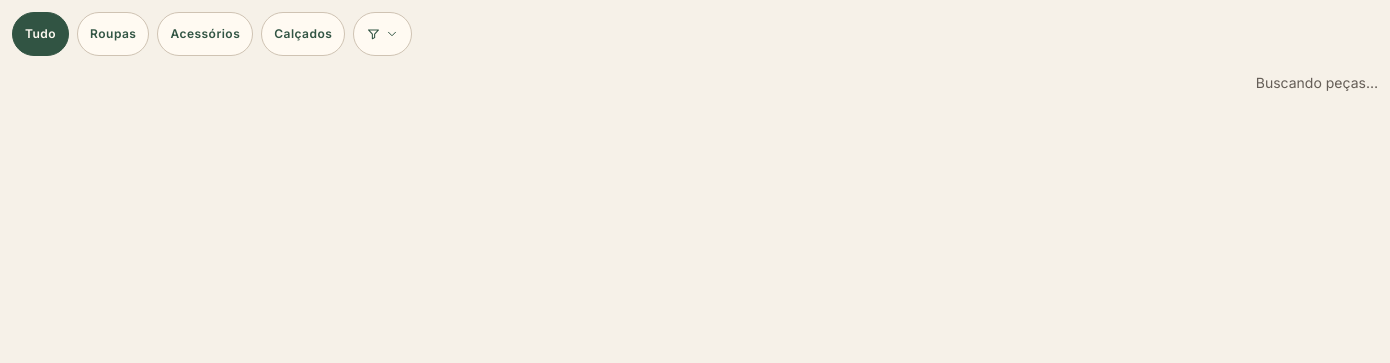
Test: FilterPanel › fecha o painel ao clicar fora dele (no fundo escurecido)
The image size is (1390, 363).
Click the button named "mais filtros" at {"x": 383, "y": 34}, box [353,12,412,56]
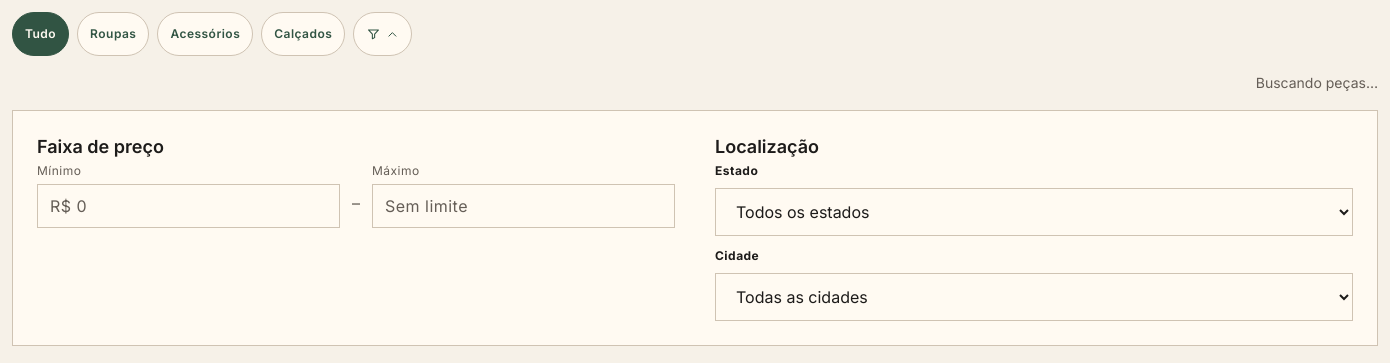
Expected: the text "Faixa de preço" is shown, [37,135,164,159]
Click the element with test id "drawer-backdrop" at {"x": 695, "y": 228}, box [12,110,1378,346]
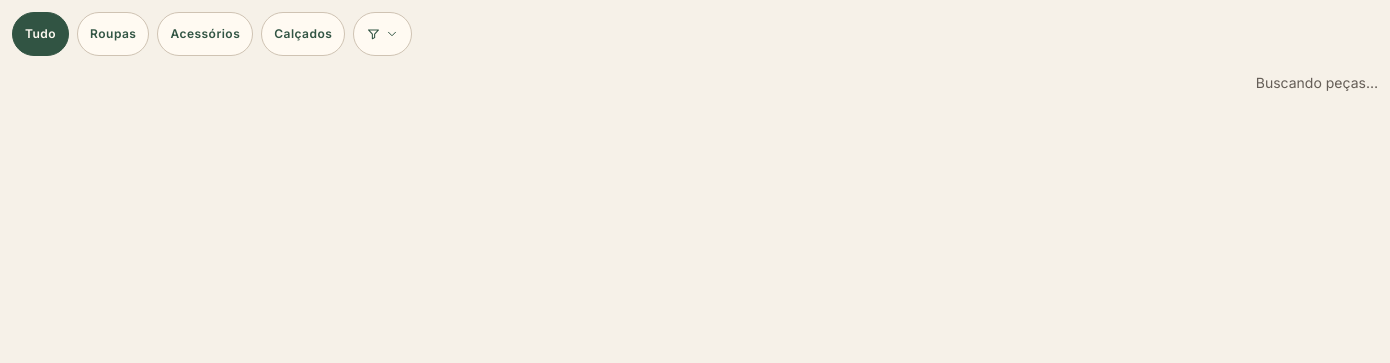
Expected: the text "Faixa de preço" is gone
